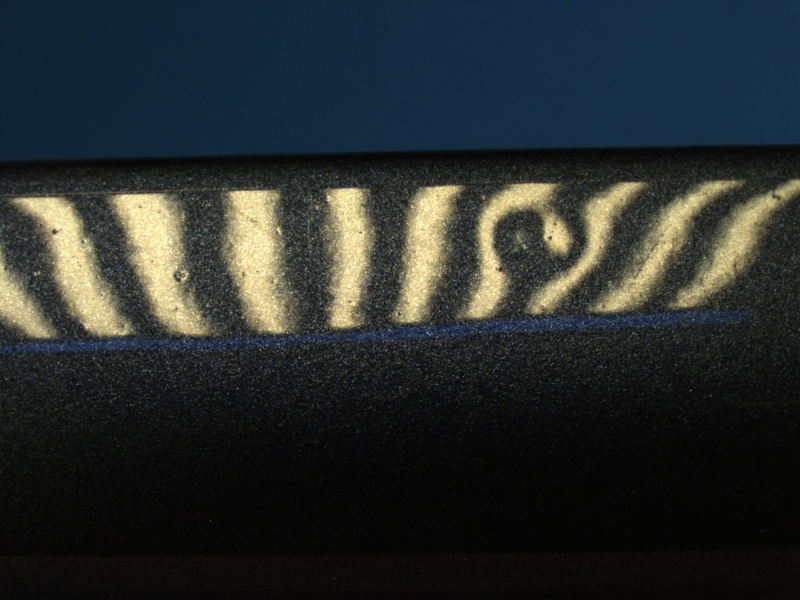bad: (469, 190, 605, 286), (166, 259, 198, 292)
